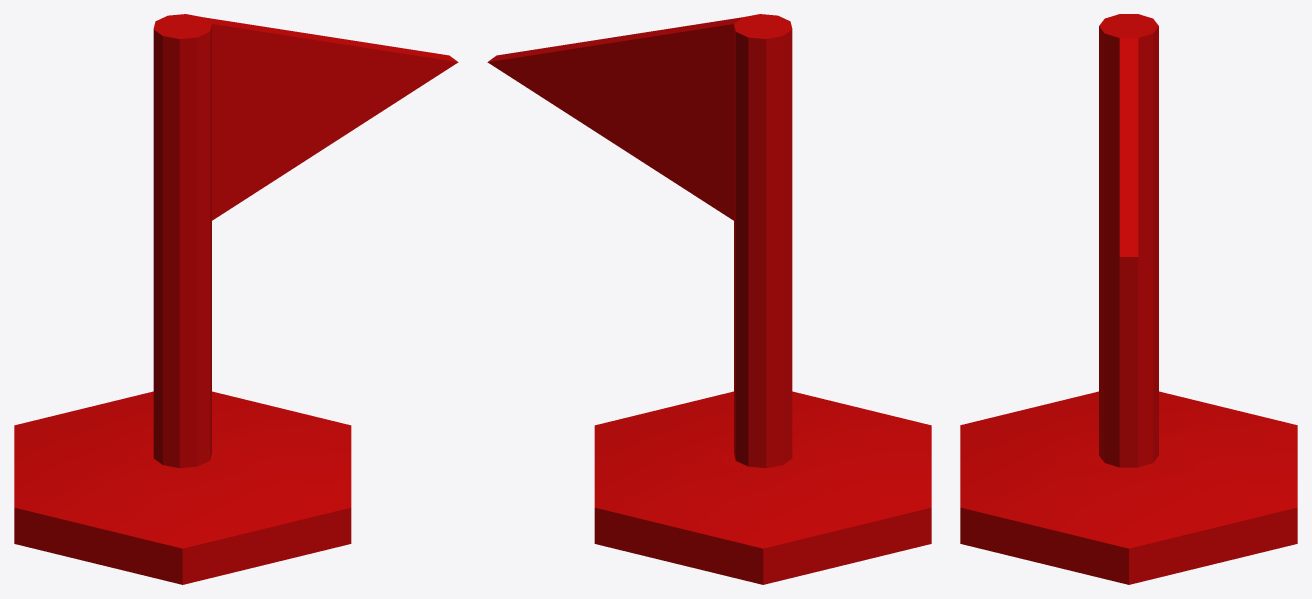
The model's file is Game_Piece_Flag_Red_01.fbx.
3 views of the same model, side by side, from view 1: azimuth 30°, elevation 25°; view 2: azimuth 150°, elevation 25°; view 3: azimuth 270°, elevation 25° (orthographic).
Visible parts, largest first — view 1: Game_Piece_Flag_Red_01; view 2: Game_Piece_Flag_Red_01; view 3: Game_Piece_Flag_Red_01.
Boxes of the visible parts, x1,y1,x2,y2 form: Game_Piece_Flag_Red_01: [14, 14, 458, 584]; Game_Piece_Flag_Red_01: [487, 14, 931, 584]; Game_Piece_Flag_Red_01: [960, 14, 1297, 584].
Bounding box in the file's own units: 20.49 × 21.21 × 13.6.
